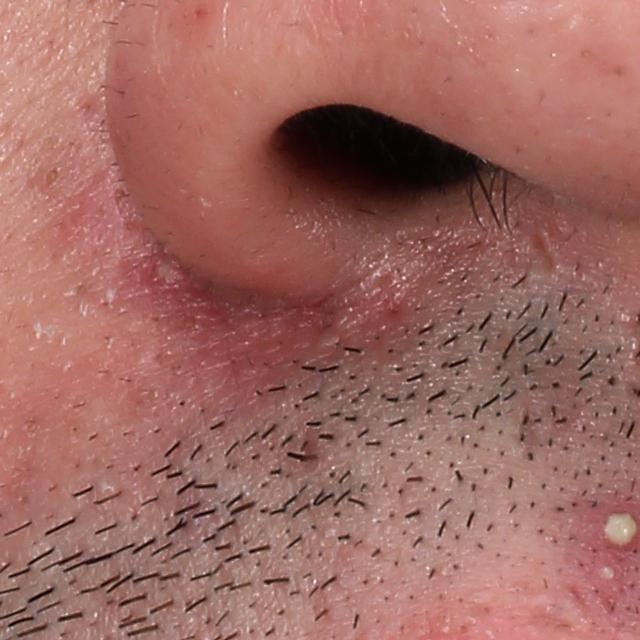atrophic_scar: (520, 218, 561, 278)
comedo: (42, 162, 64, 184)
pustule: (590, 558, 621, 585)
